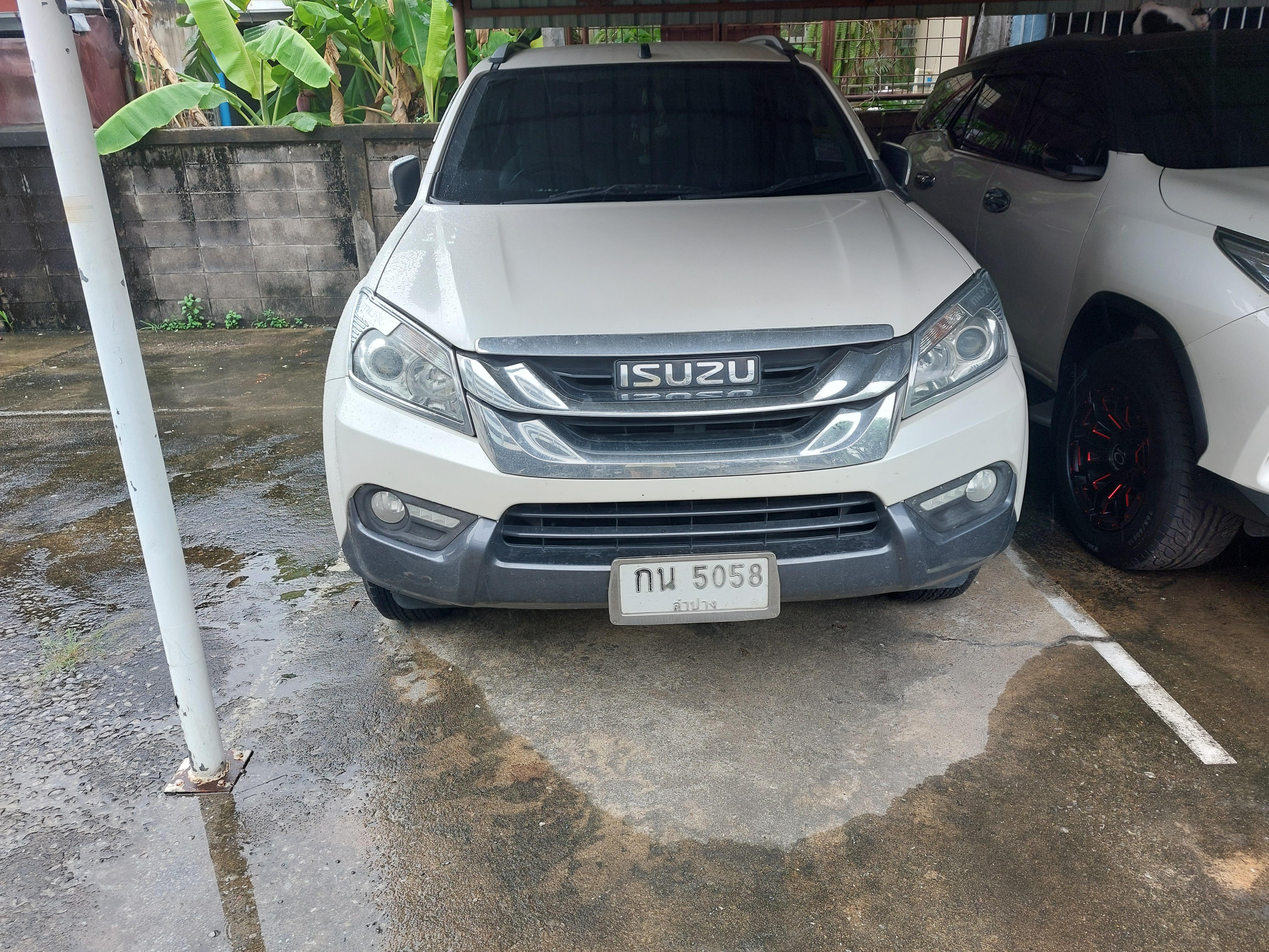license-plate: (608, 552, 785, 624)
